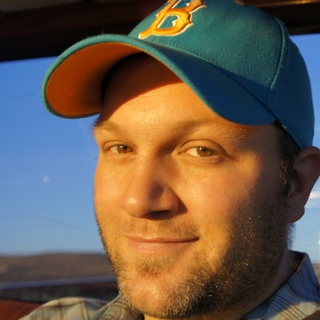eye: (169, 134, 229, 168), (97, 133, 143, 161)
